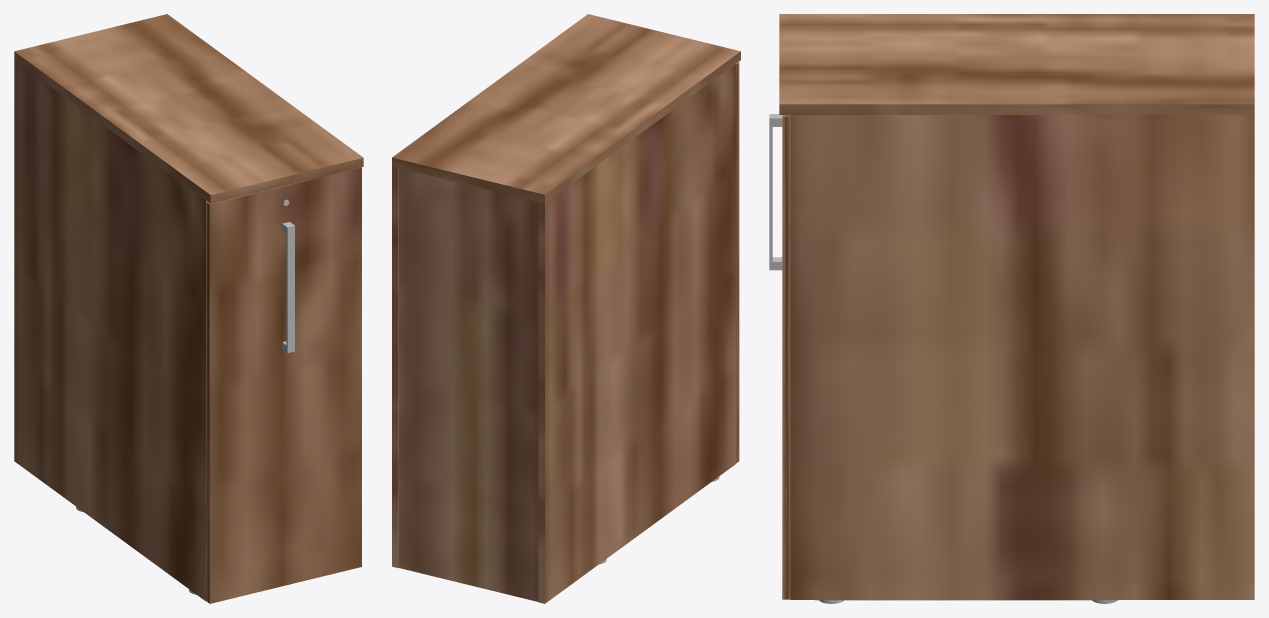
Rendered from high_cabinet_front_extract_45x100x116_FINALW.fbx.
The picture shows the model from 3 angles, left to right: view 1: azimuth 30°, elevation 25°; view 2: azimuth 150°, elevation 25°; view 3: azimuth 270°, elevation 25°; orthographic projection. The views are drawn at different scales.
Visible parts, largest first — view 1: wood_mesh, drawer_front, sss:polySurface1, metal_mesh; view 2: wood_mesh, sss:polySurface1, drawer_front; view 3: wood_mesh, sss:polySurface1, drawer_front, metal_mesh.
Boxes of the visible parts, box(x1,y1,x2,y2) form: wood_mesh: box(14, 60, 206, 601); drawer_front: box(206, 167, 361, 603); sss:polySurface1: box(14, 14, 363, 203); metal_mesh: box(282, 199, 294, 353); wood_mesh: box(392, 64, 736, 603); sss:polySurface1: box(392, 14, 740, 203); drawer_front: box(736, 62, 739, 462); wood_mesh: box(790, 115, 1254, 600); sss:polySurface1: box(779, 14, 1254, 114); drawer_front: box(782, 115, 790, 599); metal_mesh: box(769, 114, 782, 270).
Bounding box in the file's own units: 45 × 116 × 102.
